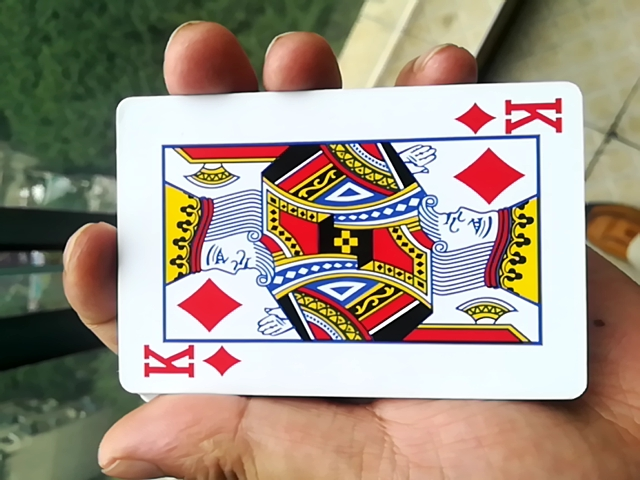fk k: (103, 88, 584, 404)
